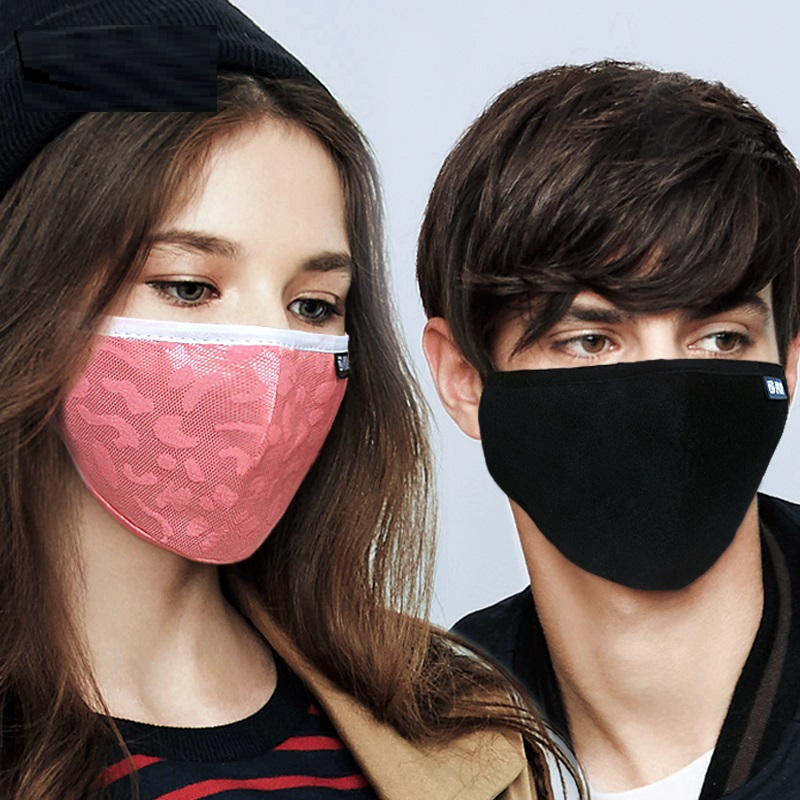face_mask: (57, 123, 351, 554), (498, 200, 787, 569)
